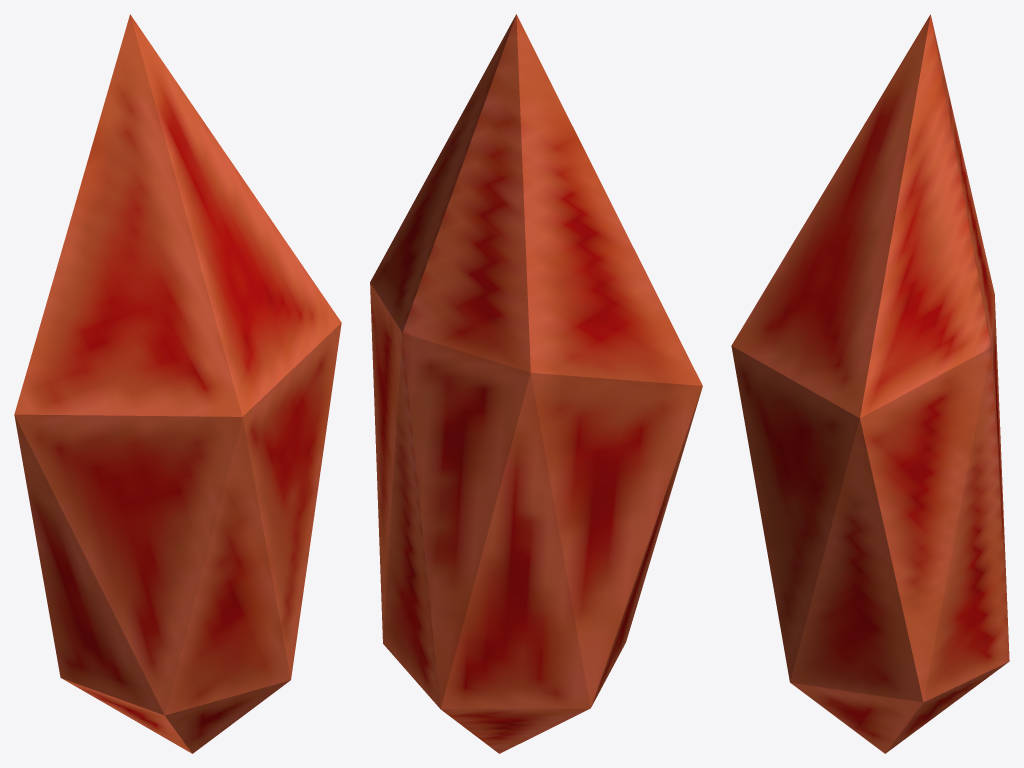
File: crystal red.glb
3 views of the same model, side by side, from view 1: azimuth 30°, elevation 25°; view 2: azimuth 150°, elevation 25°; view 3: azimuth 270°, elevation 25° (orthographic). The views are drawn at different scales.
Parts seen in each view (by area): view 1: staff.001; view 2: staff.001; view 3: staff.001.
Boxes of the visible parts, box(x1,y1,x2,y2) form: staff.001: box(14, 14, 341, 753); staff.001: box(370, 14, 702, 753); staff.001: box(731, 14, 1009, 753).
Size of the model in its own units: 0.1779 by 0.3862 by 0.135.
Materials: 1 (1 with a texture image).
